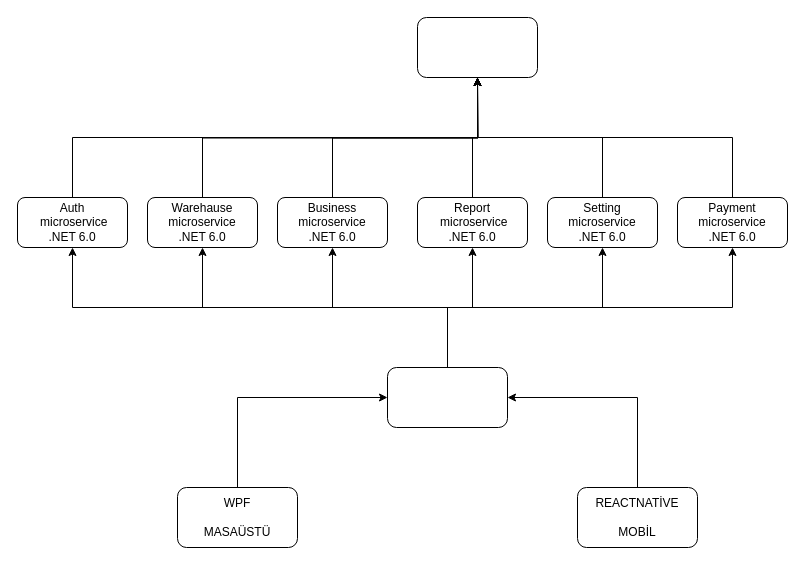
The diagram is 805 pixels wide and 565 high, and some of its shapes have lost their labels. Here are the shapes that lost their labels. From the top down, the centre of each, then its label:
At point (477, 47): "MSSQL".
At point (447, 397): "GATEWAY API .NET 6.0".
